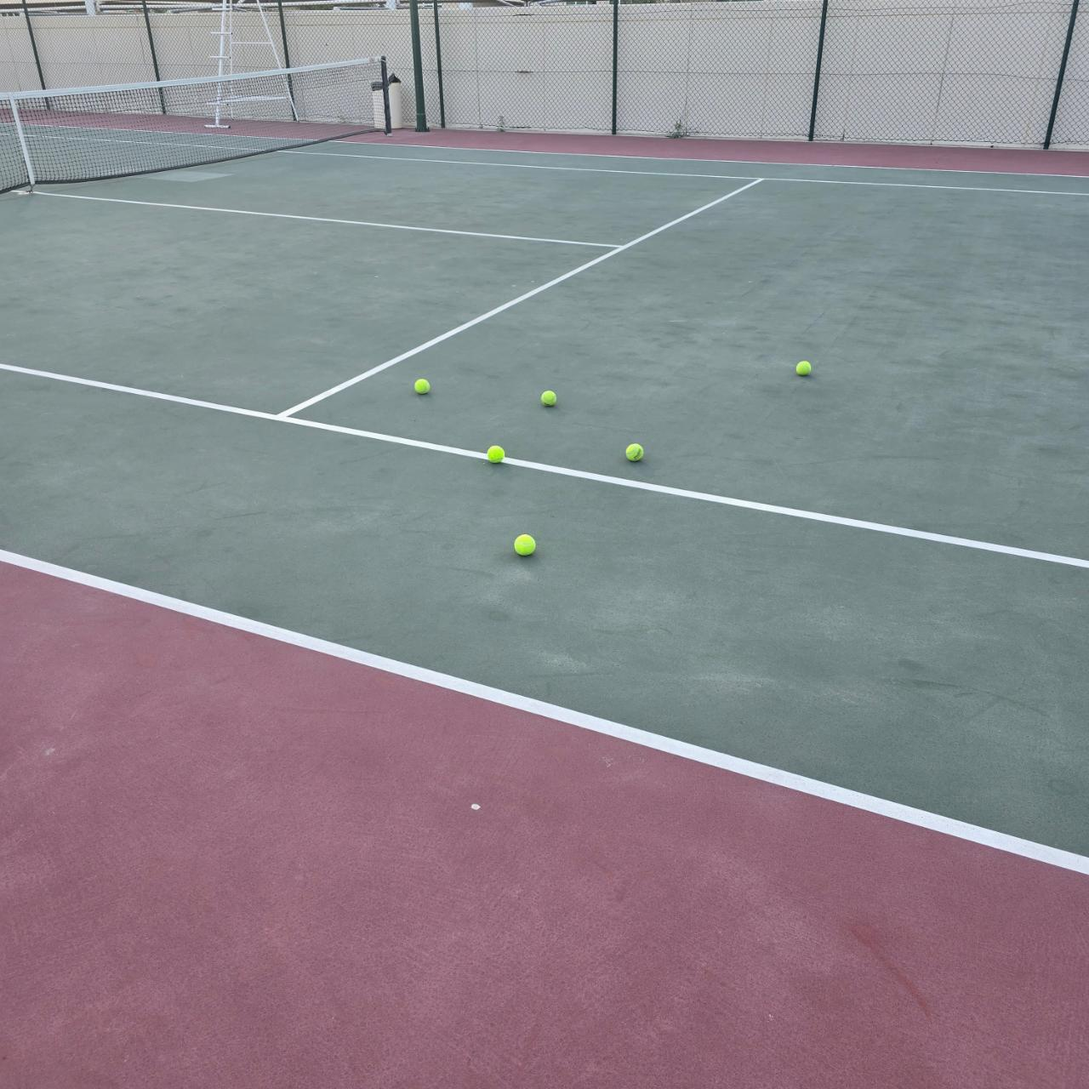tennis-ball: (514, 532, 538, 556), (625, 441, 646, 462), (487, 442, 507, 463), (541, 388, 559, 406), (796, 358, 814, 375), (415, 376, 432, 394)
